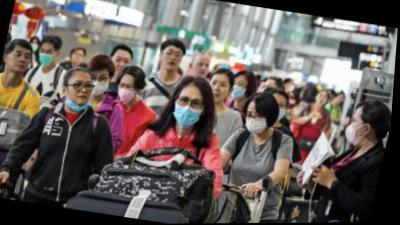NONE: (208, 77, 234, 104), (161, 46, 186, 72), (9, 47, 34, 73), (112, 53, 135, 77), (193, 57, 215, 79), (72, 49, 87, 65), (318, 93, 333, 108), (334, 93, 347, 106)
OK: (173, 92, 211, 131), (244, 108, 274, 137), (85, 69, 114, 98), (346, 115, 370, 146), (118, 80, 141, 105), (272, 99, 293, 124), (231, 78, 252, 101), (38, 46, 59, 67), (29, 40, 42, 53), (287, 80, 298, 93)
WRONG: (69, 77, 98, 108)
